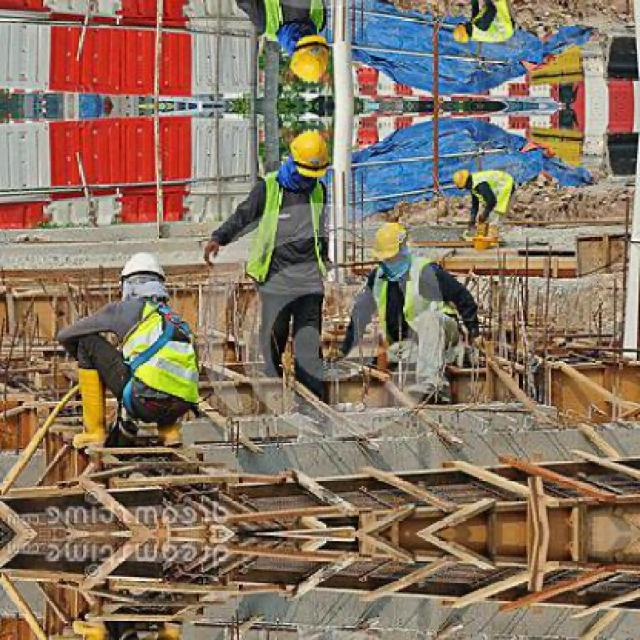helmet: (119, 249, 170, 309), (288, 124, 332, 178), (288, 32, 332, 86), (371, 220, 412, 268), (451, 20, 477, 45), (451, 165, 477, 189)
